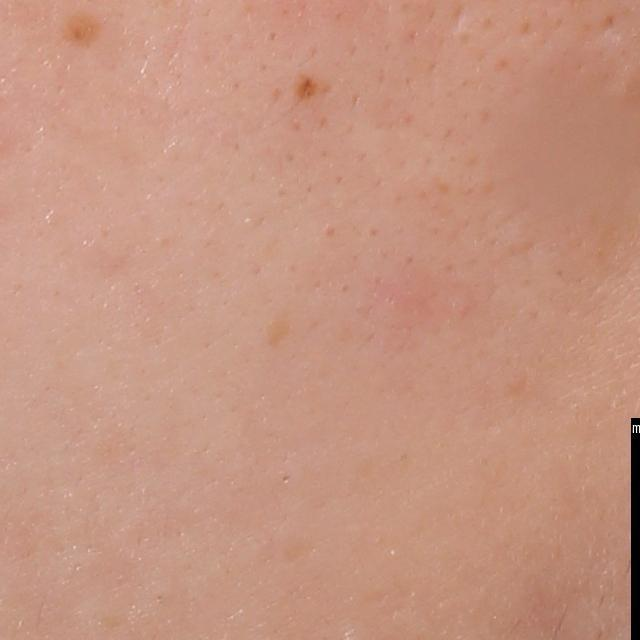nevus: (294, 71, 320, 105)
